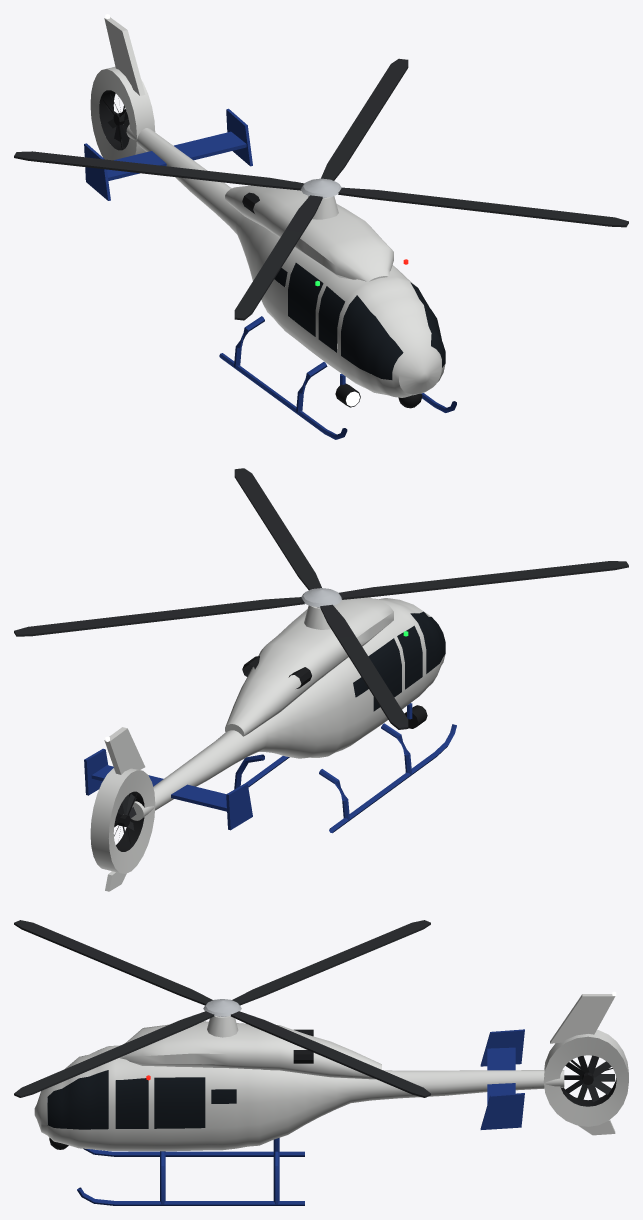
Rendered from heli.glb.
3 renders of one model, top to bottom at view 1: azimuth 30°, elevation 25°; view 2: azimuth 150°, elevation 25°; view 3: azimuth 270°, elevation 25°, orthographic. The views are drawn at different scales.
Parts seen in each view (by area): view 1: heli_body, rotor_main; view 2: heli_body, rotor_main; view 3: heli_body, rotor_main, rotor_tail.
Part boxes in pixels (x1,y1,x2,y2): heli_body: [84, 17, 456, 439]; rotor_main: [14, 58, 628, 320]; heli_body: [84, 597, 456, 891]; rotor_main: [14, 468, 628, 729]; heli_body: [34, 994, 628, 1205]; rotor_main: [14, 920, 430, 1097]; rotor_tail: [564, 1055, 614, 1102].
Bounding box in the file's own units: 7.33 × 3.67 × 10.8.
